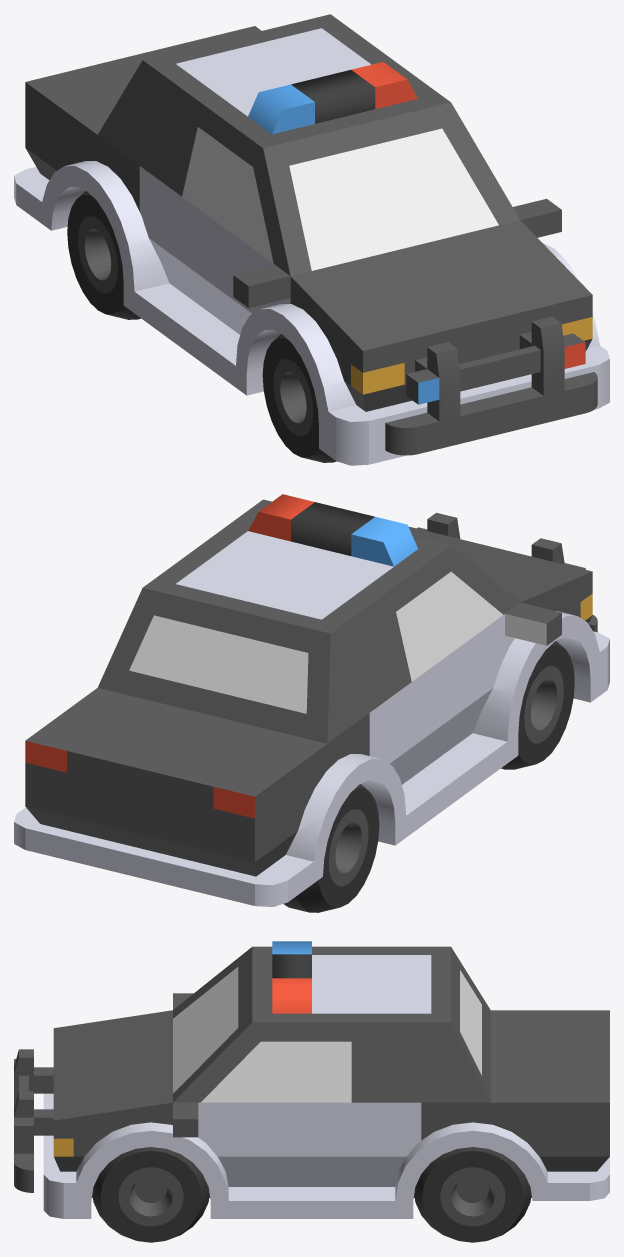
Rendered from police.obj.
3 renders of one model, top to bottom at view 1: azimuth 30°, elevation 25°; view 2: azimuth 150°, elevation 25°; view 3: azimuth 270°, elevation 25°, orthographic. The views are drawn at different scales.
Visible parts, largest first — view 1: body, grill, wheel_backRight, wheel_frontRight; view 2: body, wheel_backRight, wheel_frontRight, grill; view 3: body, wheel_backLeft, wheel_frontLeft, grill.
Boxes of the visible parts, bbox=[...] form: body: bbox=[14, 14, 609, 465]; grill: bbox=[385, 316, 597, 455]; wheel_backRight: bbox=[67, 191, 140, 319]; wheel_frontRight: bbox=[262, 334, 336, 462]; body: bbox=[14, 494, 609, 906]; wheel_backRight: bbox=[284, 784, 379, 912]; wheel_frontRight: bbox=[501, 641, 574, 769]; grill: bbox=[417, 512, 597, 632]; body: bbox=[43, 941, 609, 1218]; wheel_backLeft: bbox=[414, 1147, 531, 1242]; wheel_frontLeft: bbox=[92, 1147, 209, 1242]; grill: bbox=[14, 1049, 53, 1192].
Bounding box in the file's own units: 1.5 × 1.3 × 3.
